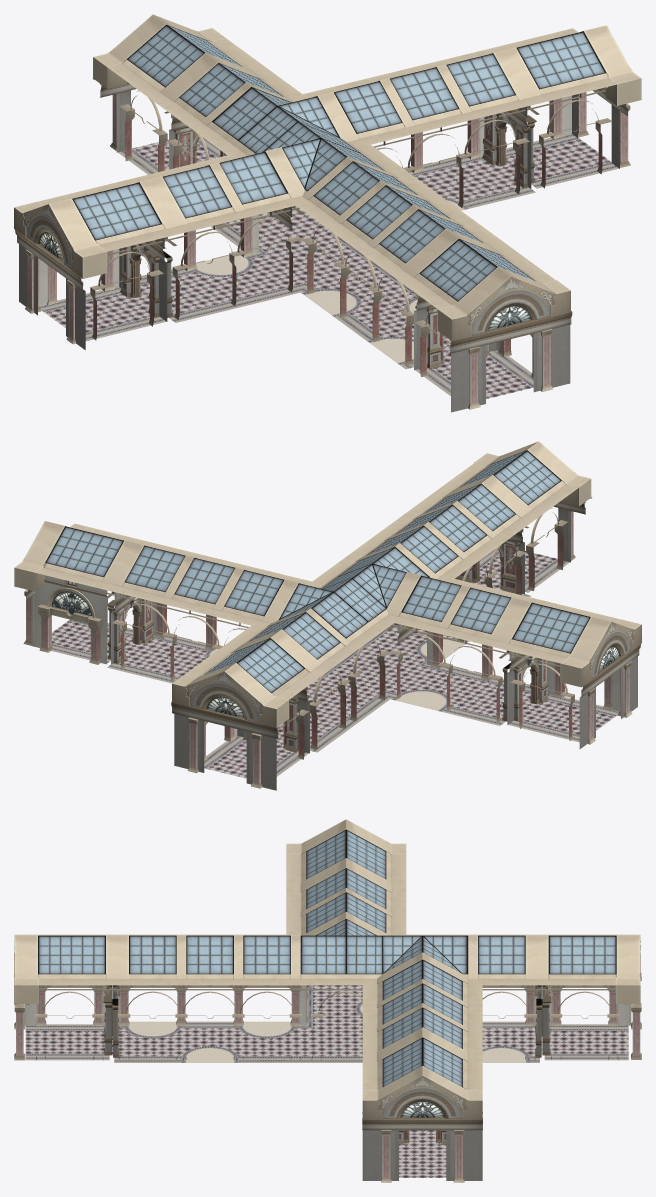
Rendered from t1_b_passage_d.glb.
3 renders of one model, top to bottom at view 1: azimuth 30°, elevation 25°; view 2: azimuth 150°, elevation 25°; view 3: azimuth 270°, elevation 25°, orthographic. The views are drawn at different scales.
Parts seen in each view (by area): view 1: um_t1_b_passage_d_model_t1_b_passage_d_modelShape, nomerge_windows; view 2: um_t1_b_passage_d_model_t1_b_passage_d_modelShape, nomerge_windows; view 3: um_t1_b_passage_d_model_t1_b_passage_d_modelShape, nomerge_windows.
Boxes of the visible parts, left/top/right/bottom form: um_t1_b_passage_d_model_t1_b_passage_d_modelShape: left=14, top=14, right=641, bottom=412; nomerge_windows: left=38, top=232, right=531, bottom=330; um_t1_b_passage_d_model_t1_b_passage_d_modelShape: left=14, top=441, right=641, bottom=790; nomerge_windows: left=52, top=581, right=619, bottom=718; um_t1_b_passage_d_model_t1_b_passage_d_modelShape: left=14, top=819, right=641, bottom=1182; nomerge_windows: left=400, top=1101, right=444, bottom=1117.
Size of the model in its own units: 67.82 by 13.19 by 70.06.
Materials: 9 (9 with a texture image).
